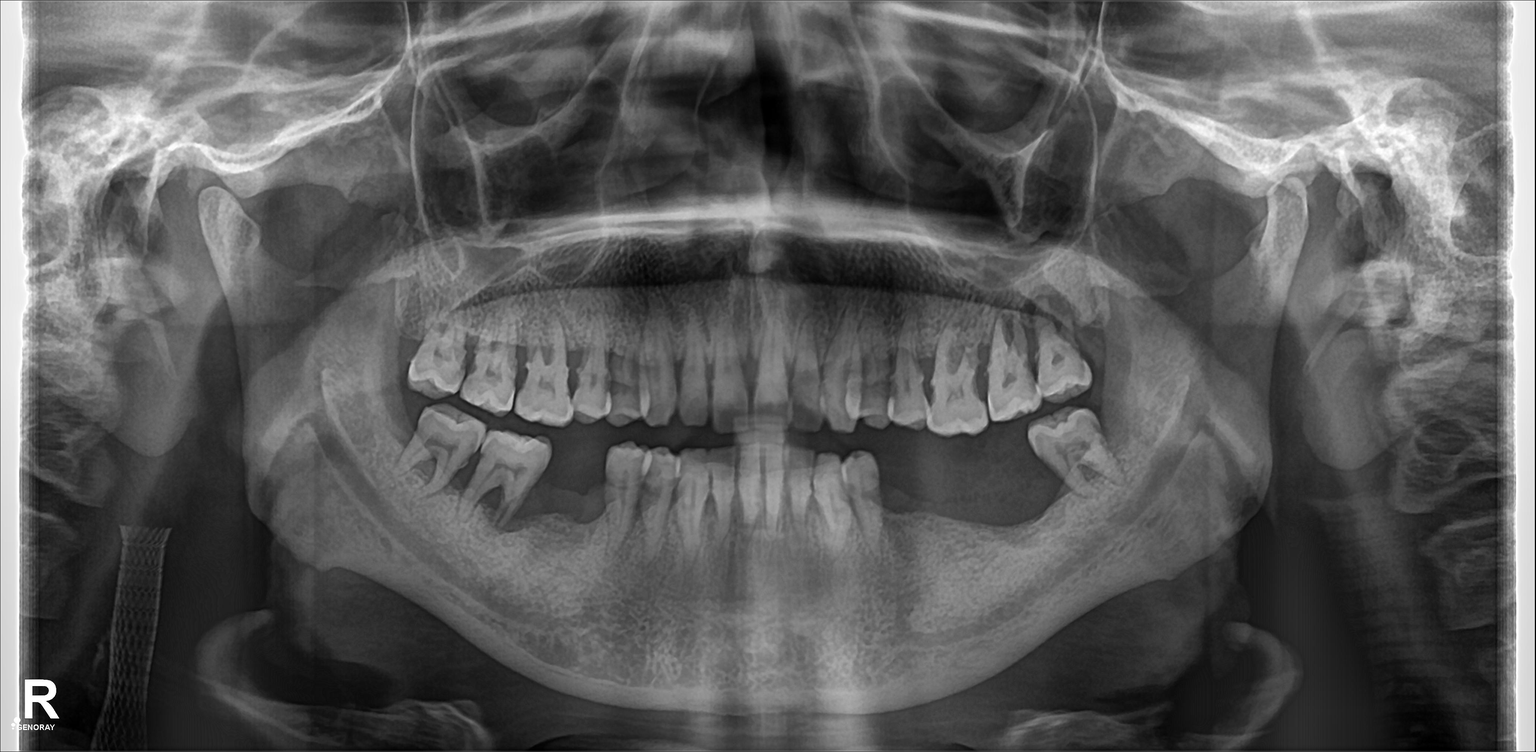Impacted Third Molar: (1047, 417, 1122, 498)
Missing Tooth: (551, 447, 603, 535), (1007, 456, 1050, 548), (931, 456, 967, 550), (888, 463, 927, 545), (1078, 302, 1119, 378), (972, 462, 998, 542)
